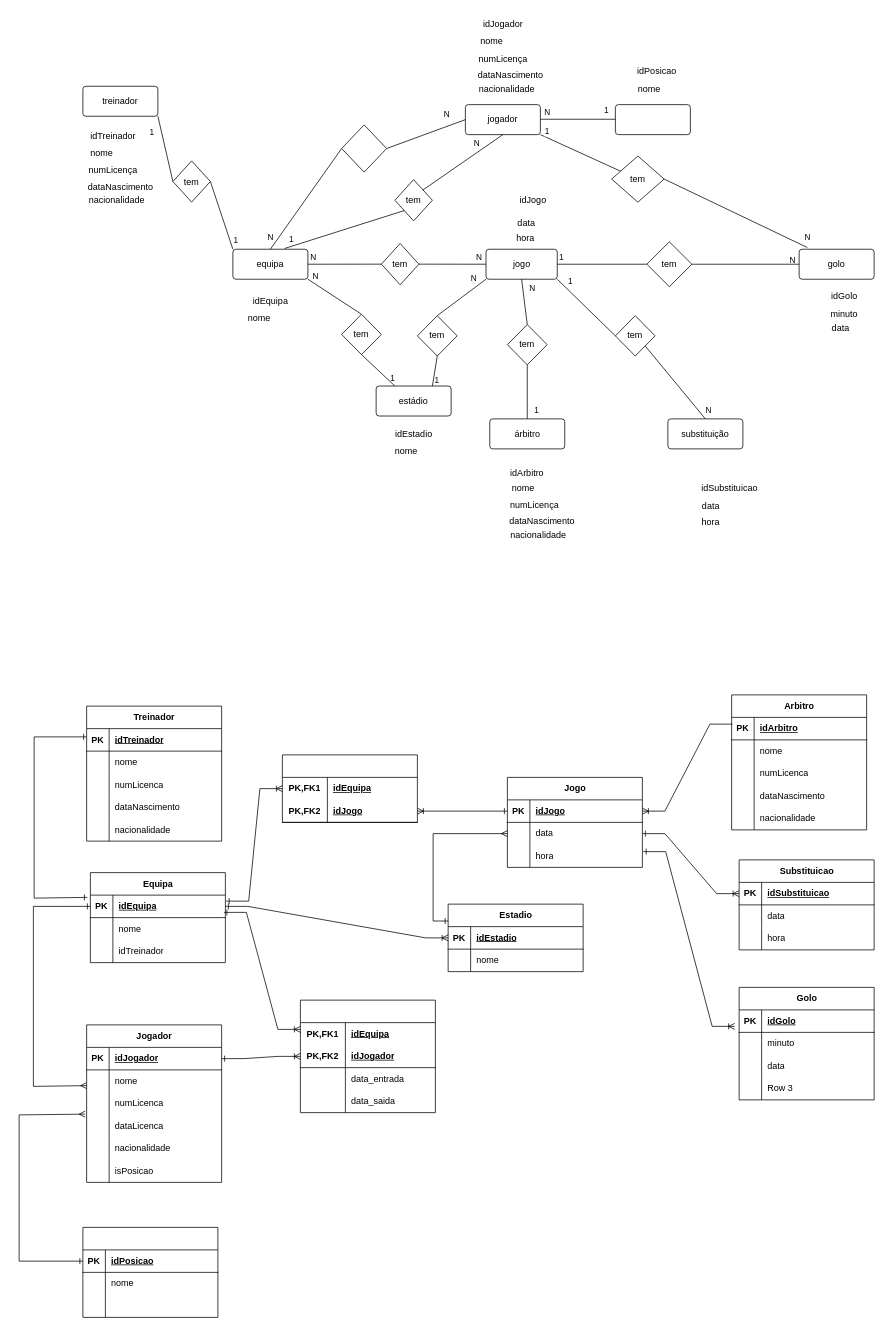
The diagram is 887 pixels wide and 1331 high, and some of its shapes have lost their labels. Each missing label, with the box of its shape:
Equipa_jogo: (282, 754, 417, 822)
histórico: (341, 124, 387, 172)
Jogador_Historico_Equipa: (300, 999, 435, 1113)
PosicaoJogo: (82, 1227, 218, 1317)
posição_jogo: (615, 104, 690, 135)
